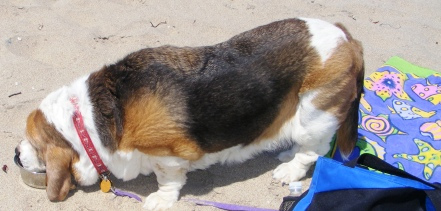dog: (14, 17, 366, 211)
